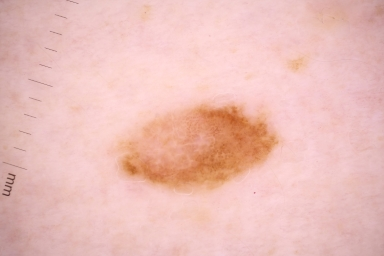melanoma: (115, 105, 278, 191)
